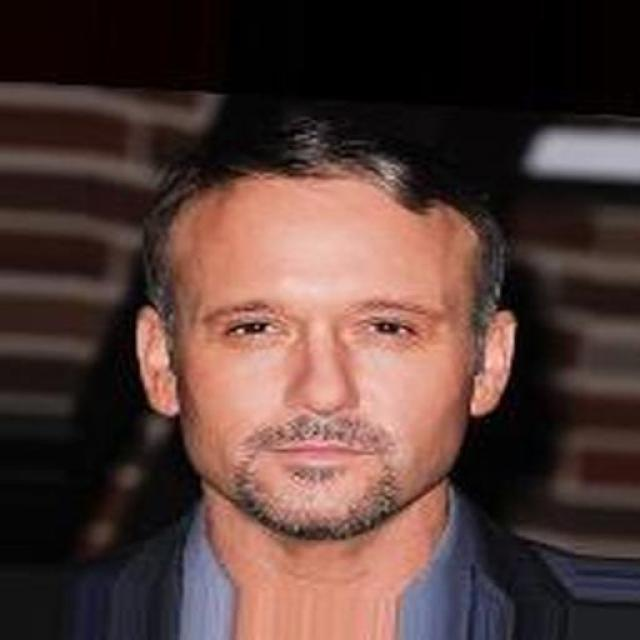bareface: (136, 128, 526, 517)
